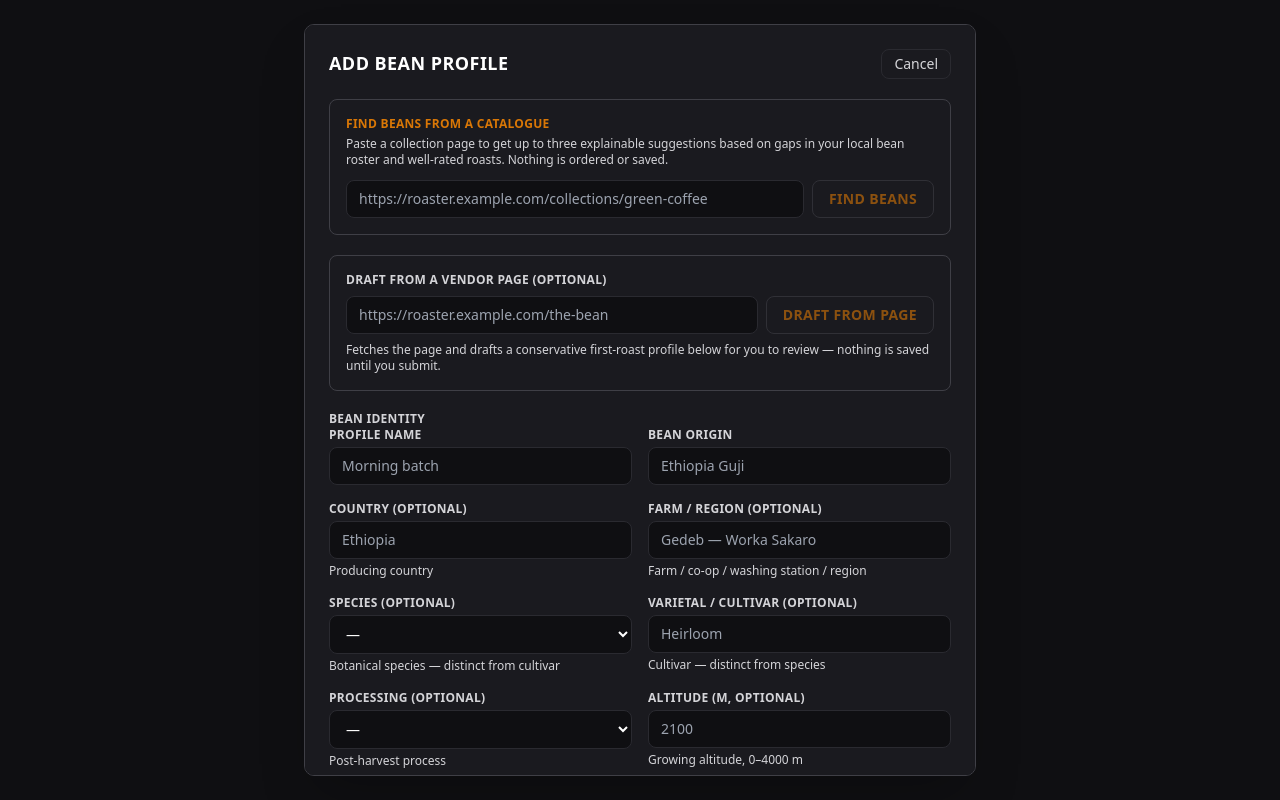
Test: BeanProfileModal draft-from-URL (#573 phase 1, #627, #637) › maps a 422 to fix-the-input guidance, distinct from a 503
The width and height of the screenshot is (1280, 800).
Step 1. Type "https://roaster.example.com/thin-page" into the field with test id "bean-profile-draft-url" → coordinates (552, 315), box top-left (346, 296), bottom-right (758, 334)
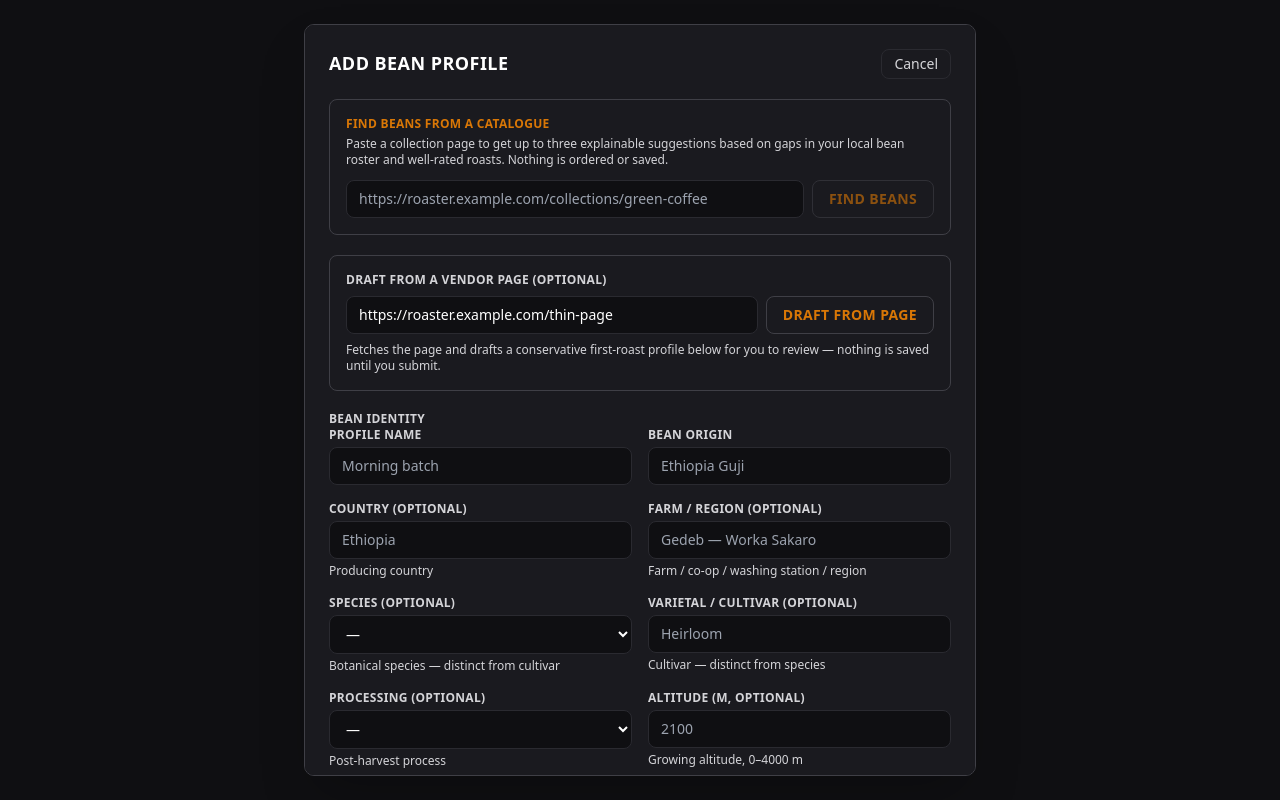
Step 2. Click the button with test id "bean-profile-draft-button" → coordinates (850, 315), box top-left (766, 296), bottom-right (934, 334)
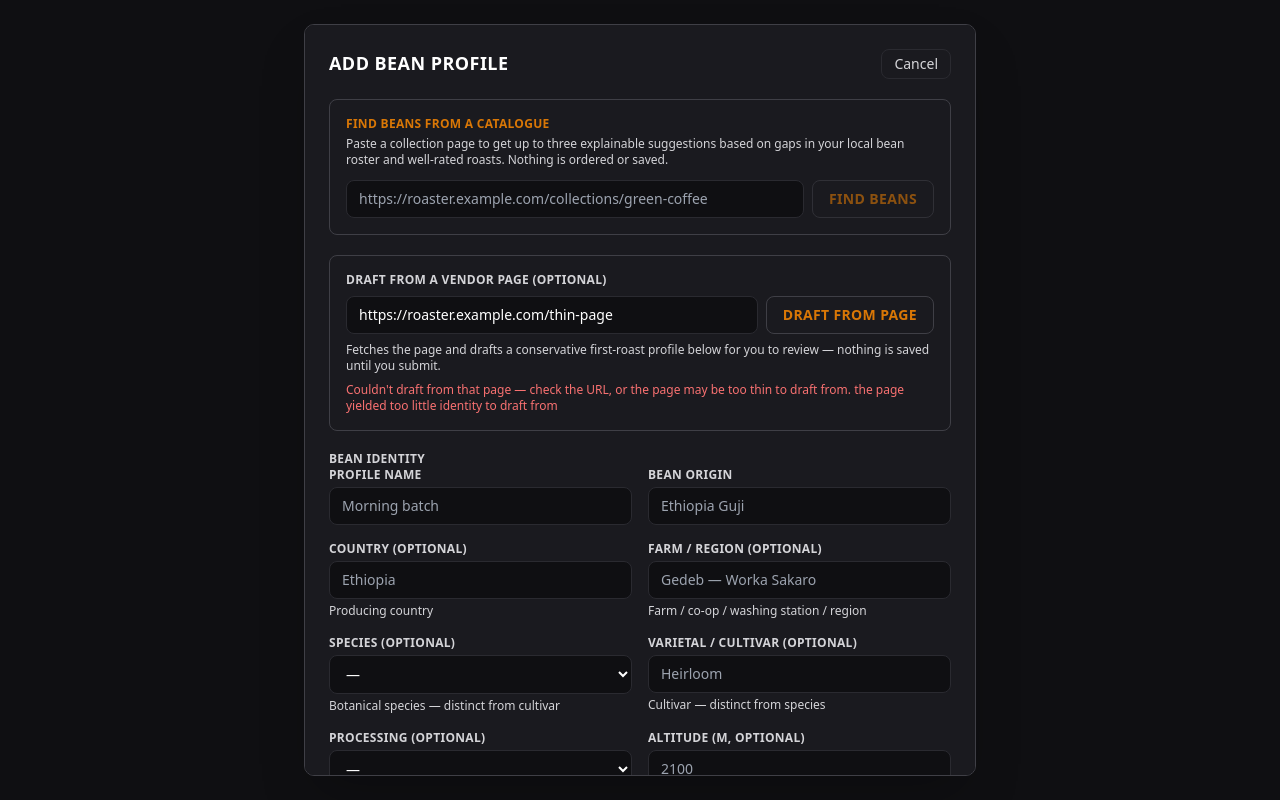
Expected: the field with test id "bean-profile-name" is empty, top-left (329, 487), bottom-right (632, 525)
Expected: the message with test id "bean-profile-draft-error" shows "check the URL, or the page may be too thin", top-left (346, 381), bottom-right (904, 414)
